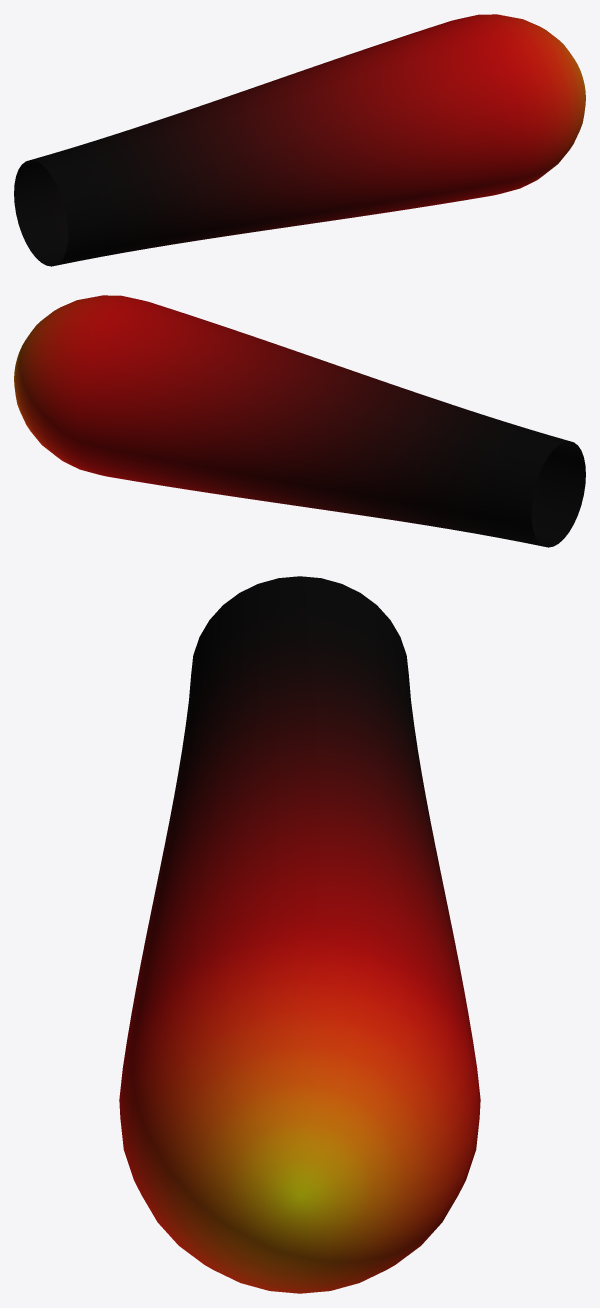
Rendered from SM_Large_Bolt.fbx.
3 renders of one model, top to bottom at view 1: azimuth 30°, elevation 25°; view 2: azimuth 150°, elevation 25°; view 3: azimuth 270°, elevation 25°, orthographic. The views are drawn at different scales.
Parts seen in each view (by area): view 1: SM_Large_Bolt; view 2: SM_Large_Bolt; view 3: SM_Large_Bolt.
Boxes of the visible parts, x1=… form: SM_Large_Bolt: x1=14, y1=14, x2=585, y2=266; SM_Large_Bolt: x1=14, y1=295, x2=585, y2=547; SM_Large_Bolt: x1=119, y1=576, x2=480, y2=1293.
Bounding box in the file's own units: 644 × 189 × 189.
